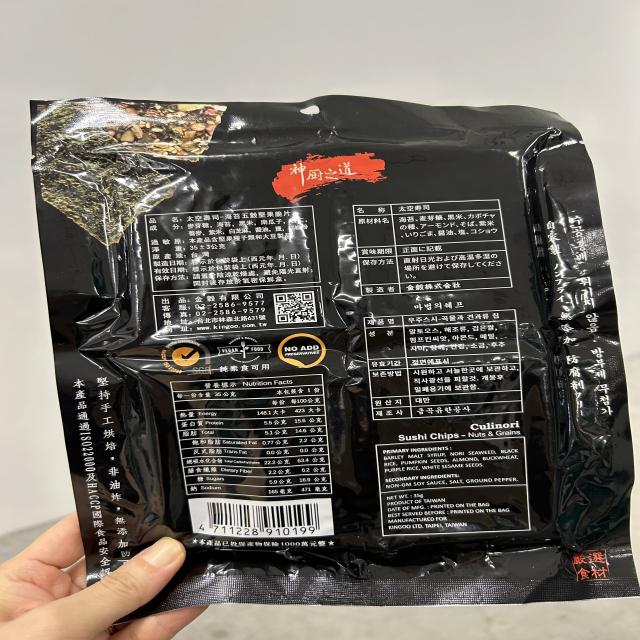object_name: (54, 104, 608, 593)
